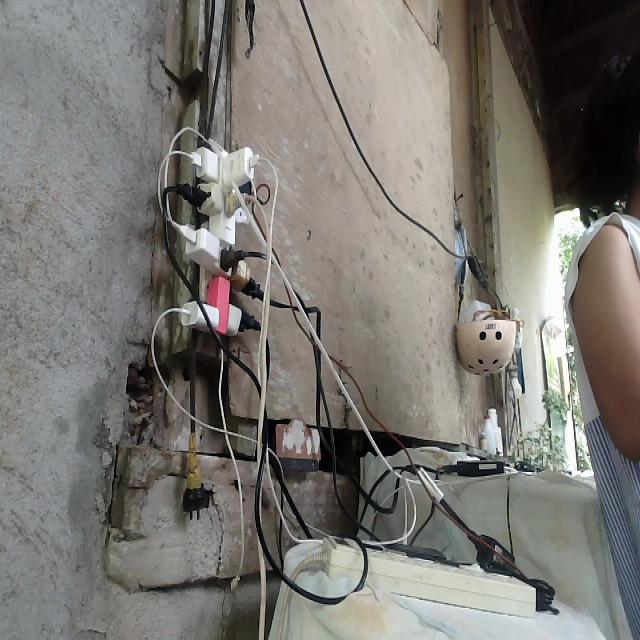-: (179, 141, 259, 336)
